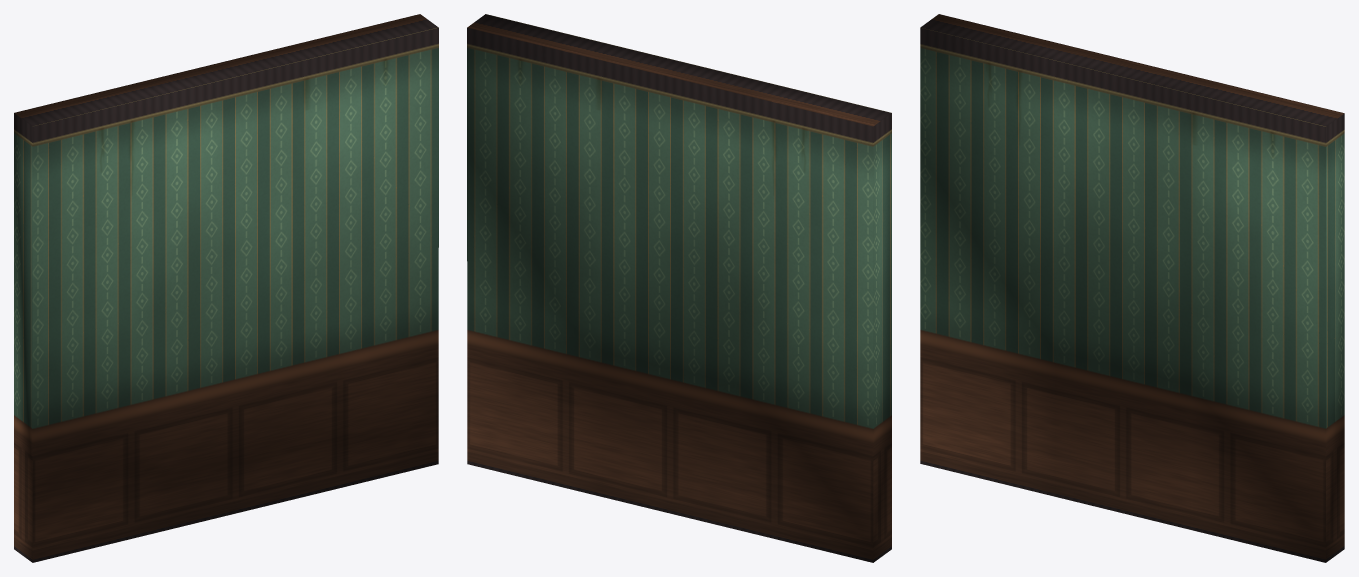
Rendered from Brick_Wall_Breakable.fbx.
3 views of the same model, side by side, from view 1: azimuth 30°, elevation 25°; view 2: azimuth 150°, elevation 25°; view 3: azimuth 330°, elevation 25° (orthographic).
Visible parts, largest first — view 1: Brick_Wall_Breakable; view 2: Brick_Wall_Breakable; view 3: Brick_Wall_Breakable.
Part boxes in pixels (<box>): Brick_Wall_Breakable: <box>14,14,438,562</box>; Brick_Wall_Breakable: <box>467,14,891,562</box>; Brick_Wall_Breakable: <box>920,14,1344,562</box>.
Size of the model in its own units: 3.48 by 3.58 by 0.2777.
